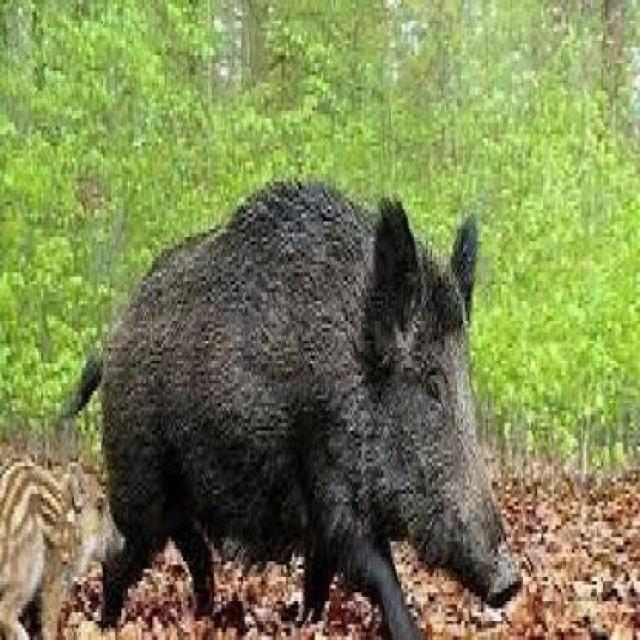wildboar: (60, 166, 528, 640), (0, 448, 128, 638)
